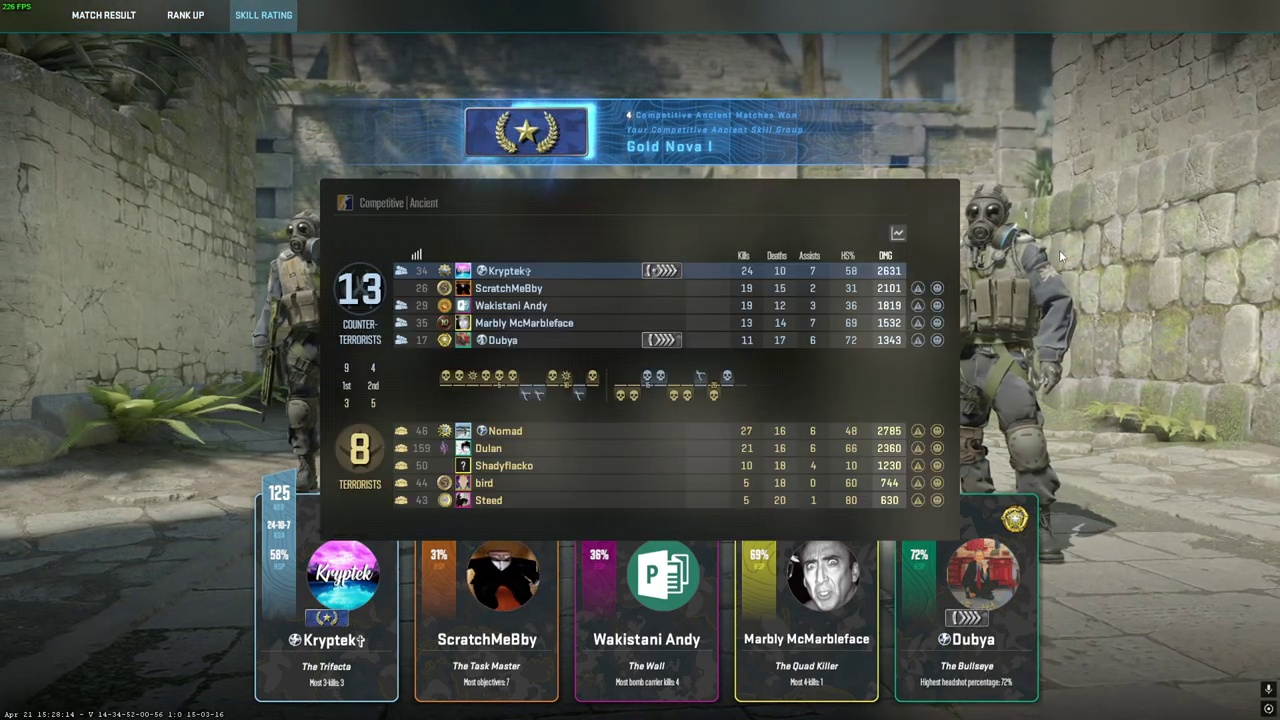CT: (956, 185, 1065, 555), (270, 210, 324, 490)
